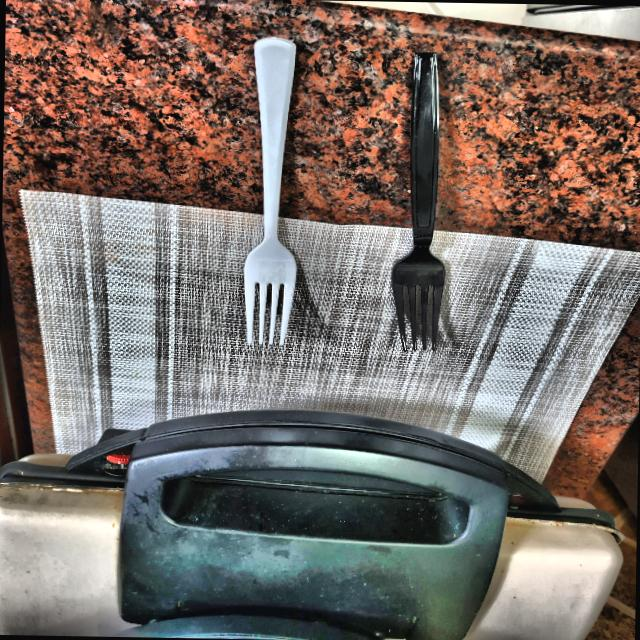plastic utensil: (382, 57, 462, 352), (233, 37, 299, 346)
